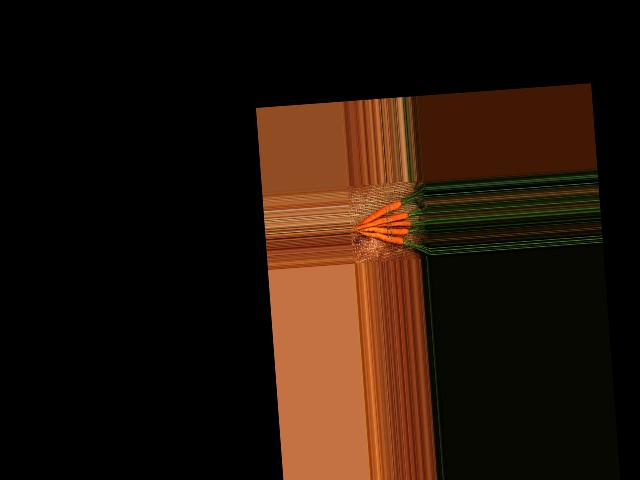carrot: (361, 228, 404, 248)
